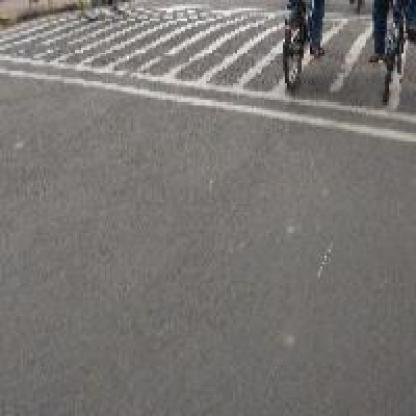Speed Bump: (0, 0, 250, 115), (298, 4, 370, 127)
